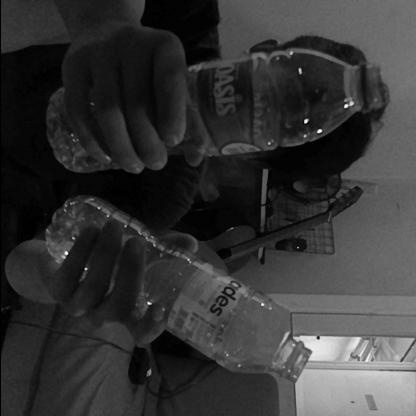plastic_bottles: (44, 197, 312, 381), (46, 45, 380, 175)
